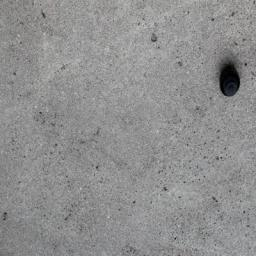FOD: (213, 63, 247, 102)
